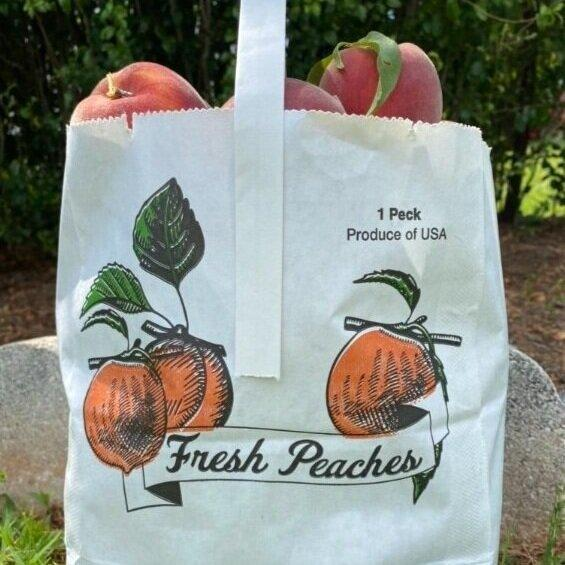apple: (321, 40, 442, 123), (95, 60, 209, 108)
